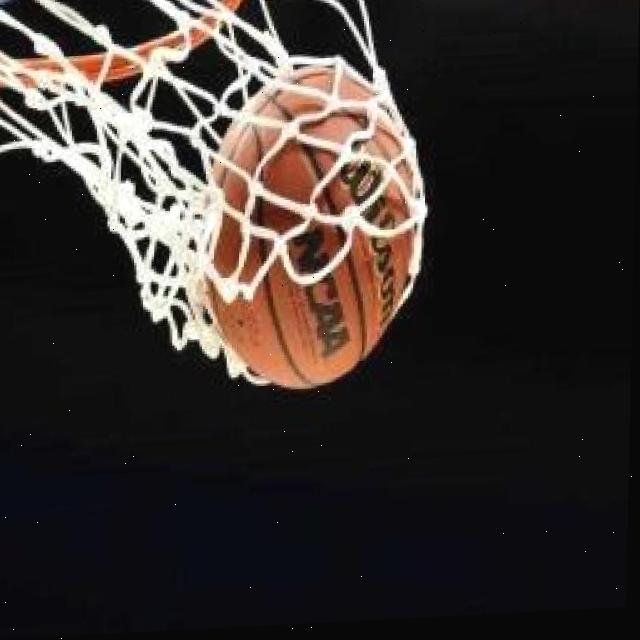Goal: (203, 63, 420, 392)
